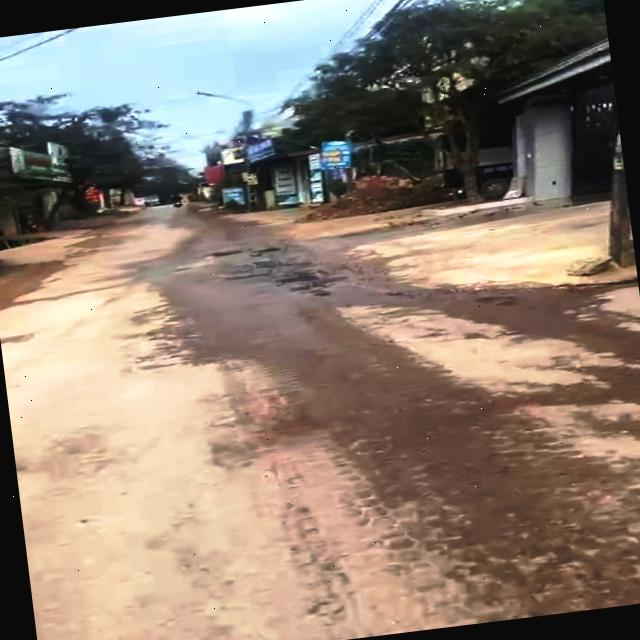pothole: (270, 268, 352, 304)
